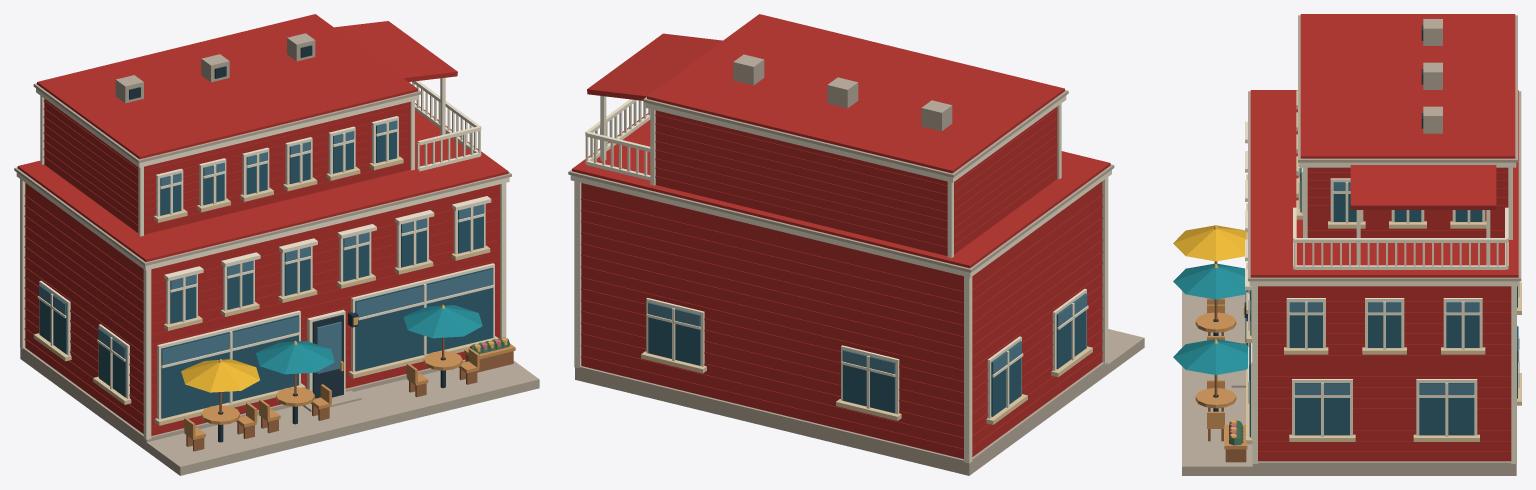
File: harbor_inn.glb
3 renders of one model, left to right at view 1: azimuth 30°, elevation 25°; view 2: azimuth 150°, elevation 25°; view 3: azimuth 270°, elevation 25°, orthographic. The views are drawn at different scales.
Parts seen in each view (by area): view 1: harbor_inn; view 2: harbor_inn; view 3: harbor_inn.
Part boxes in pixels (<box>): harbor_inn: <box>14,14,539,475</box>; harbor_inn: <box>568,14,1144,475</box>; harbor_inn: <box>1173,14,1521,475</box>.
Bounding box in the file's own units: 12.02 × 9.07 × 9.43.
